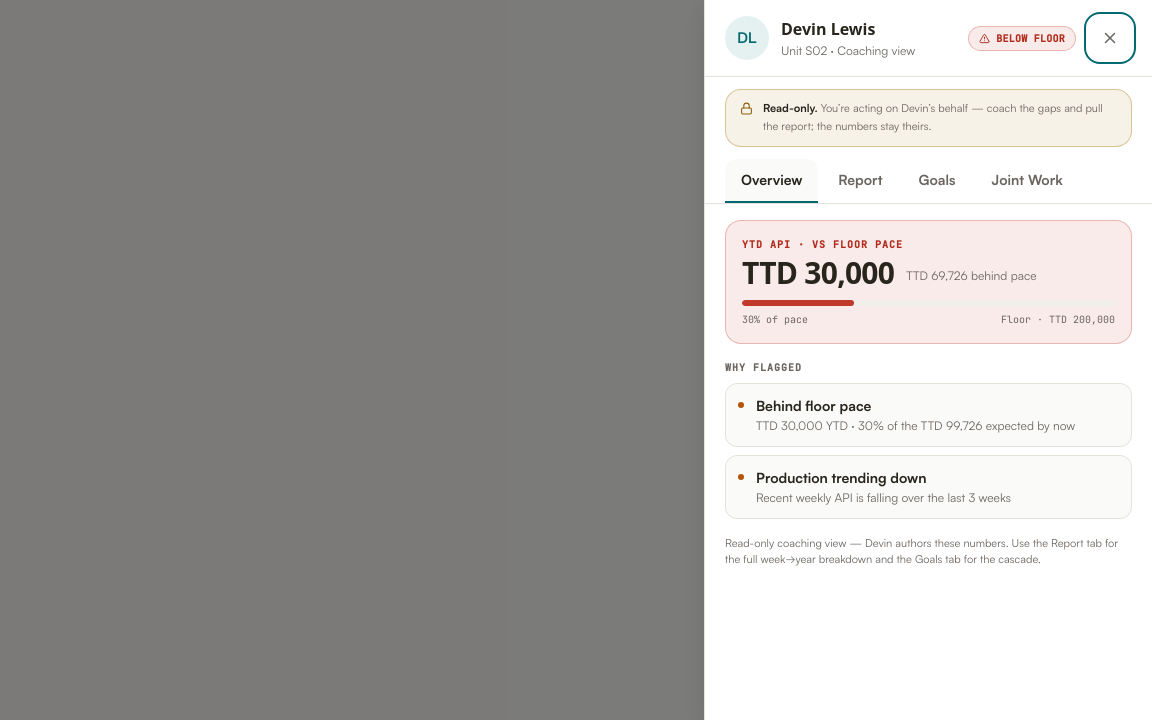
Test: AgentDrillDrawer › Joint Work tab › shows an error card with Retry when the read fails, and Retry re-fetches
Click the tab with test id "drill-tab-jointwork": [1027, 181] box [976, 159, 1079, 203]
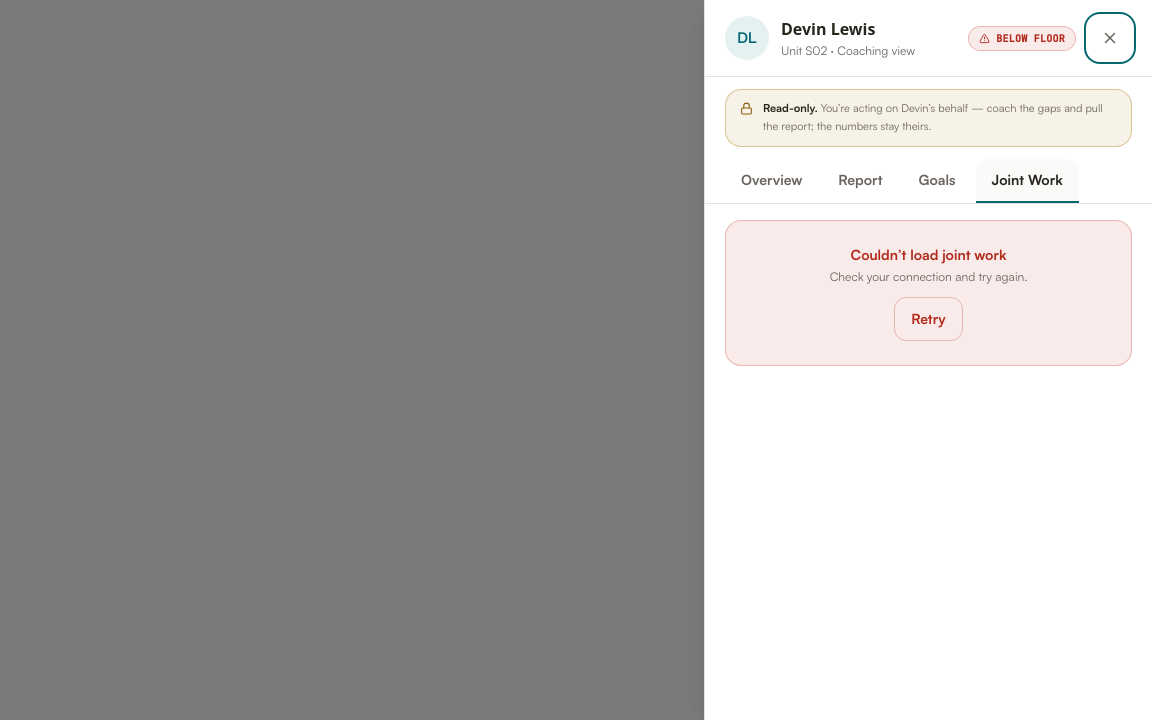
Now the element with test id "drill-jointwork-error" is shown, box [725, 220, 1132, 366]
Click the button with test id "drill-jointwork-retry": [929, 319] box [894, 297, 963, 341]
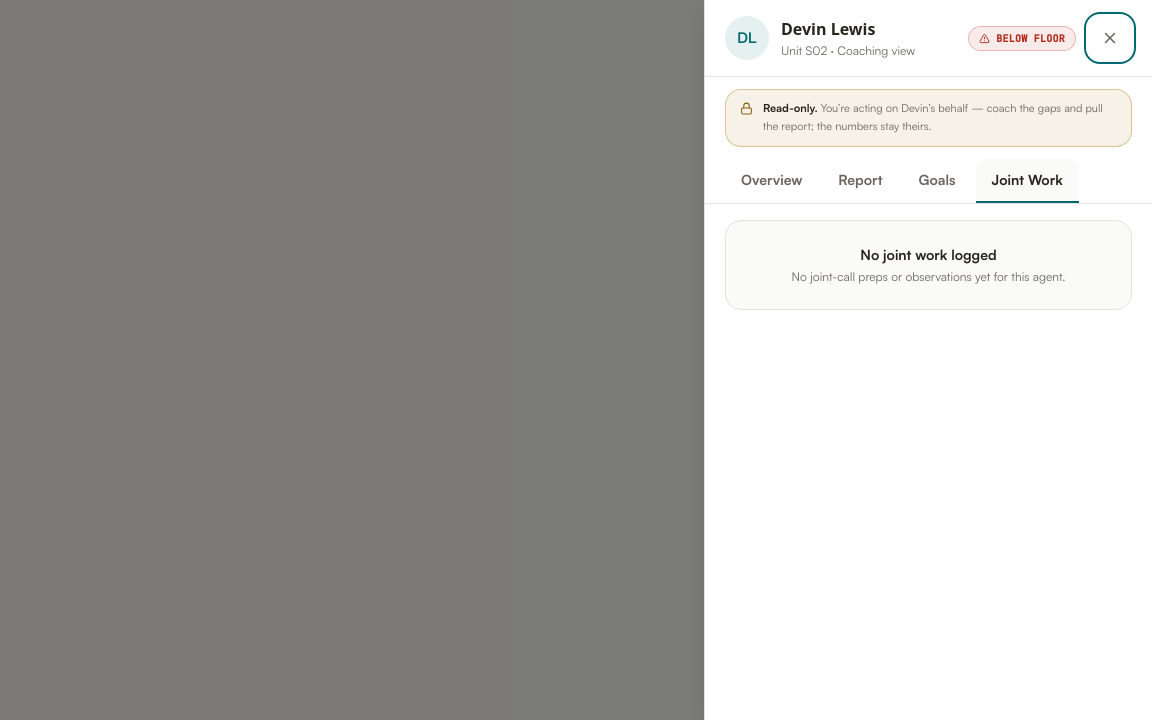
Now the element with test id "drill-jointwork-empty" is shown, box [725, 220, 1132, 310]
